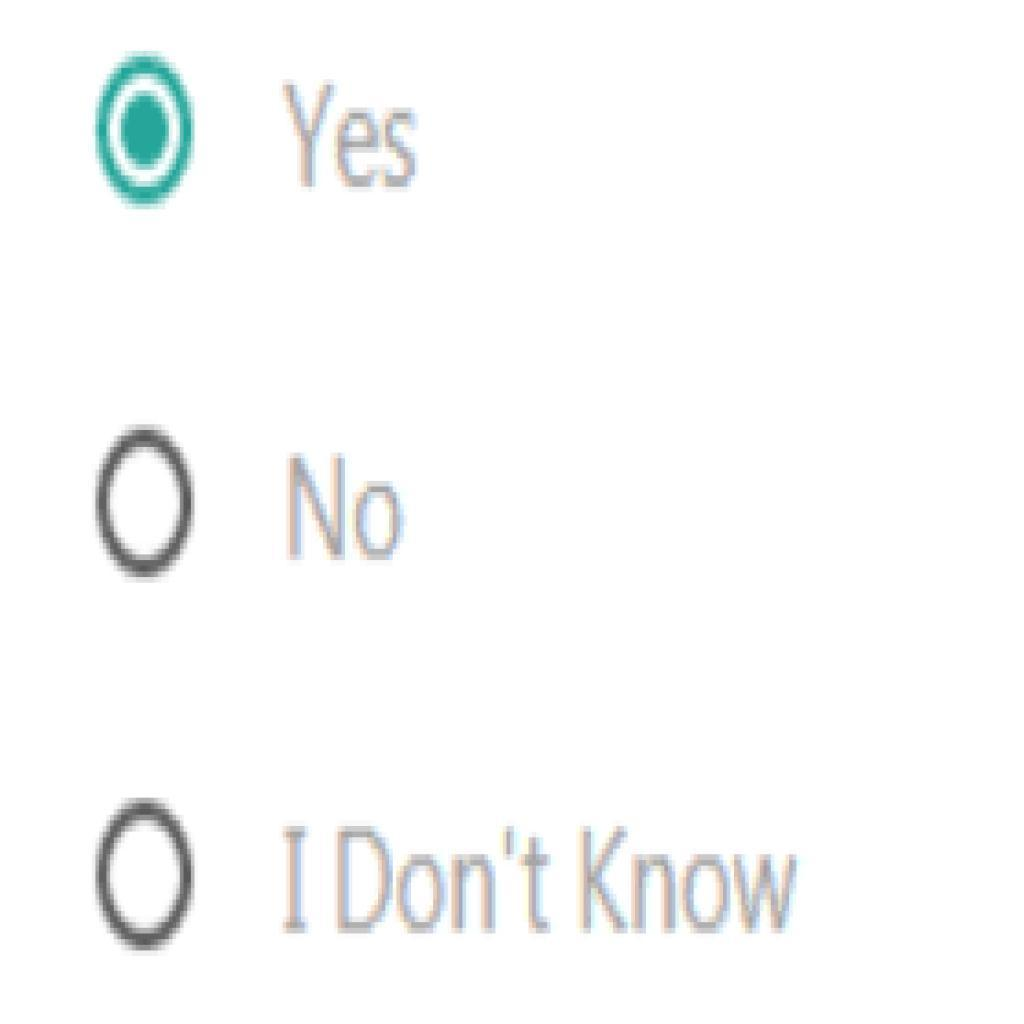label: (265, 815, 807, 953), (268, 450, 426, 572), (278, 77, 425, 197)
radio: (93, 50, 197, 212), (89, 424, 198, 576), (94, 794, 186, 950)
